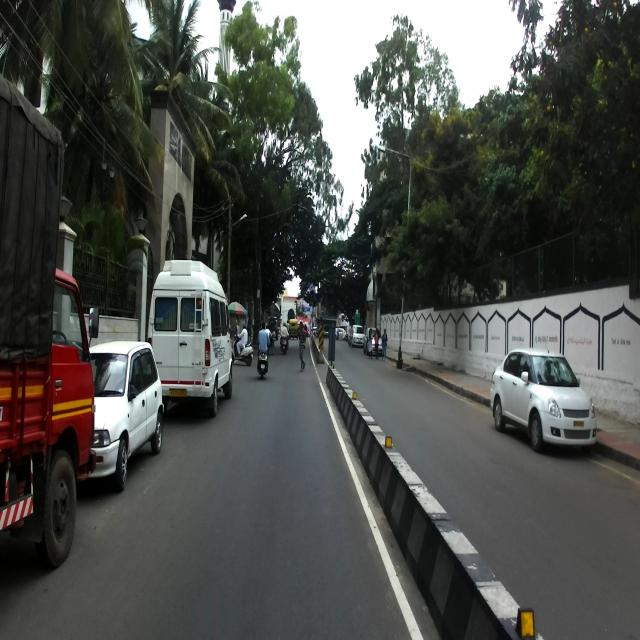Car_Maruti-Suzuki: (83, 339, 165, 488), (490, 341, 598, 453)
mini-bus: (144, 256, 235, 418)
truck: (0, 72, 98, 591)
